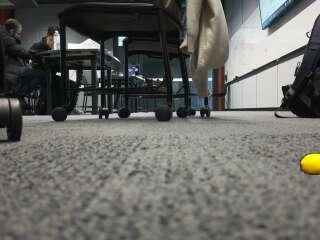lemon: (301, 155, 320, 175)
